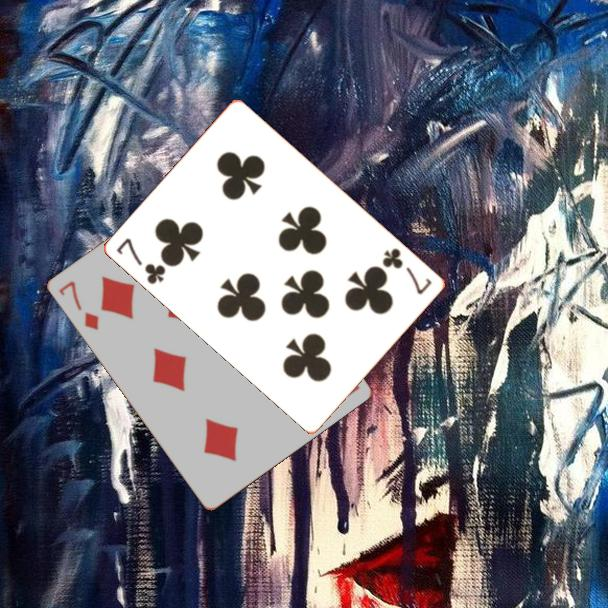c07: (379, 244, 435, 297), (113, 234, 169, 287)
d07: (55, 277, 102, 333)
